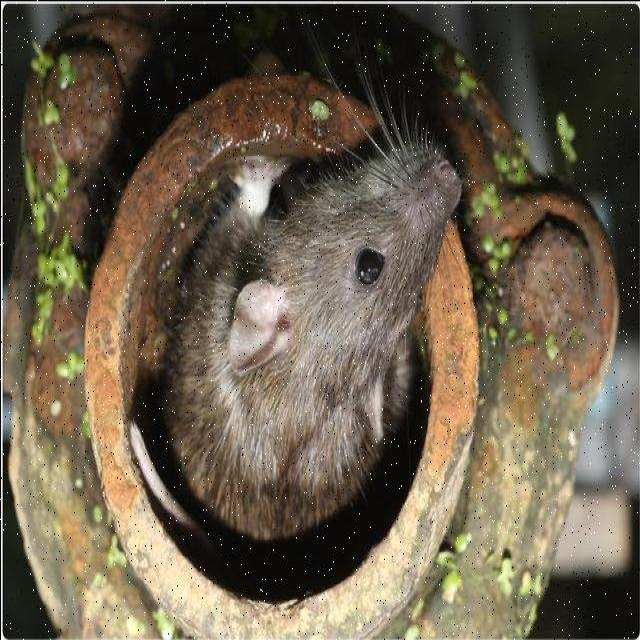rat: (172, 140, 462, 543)
